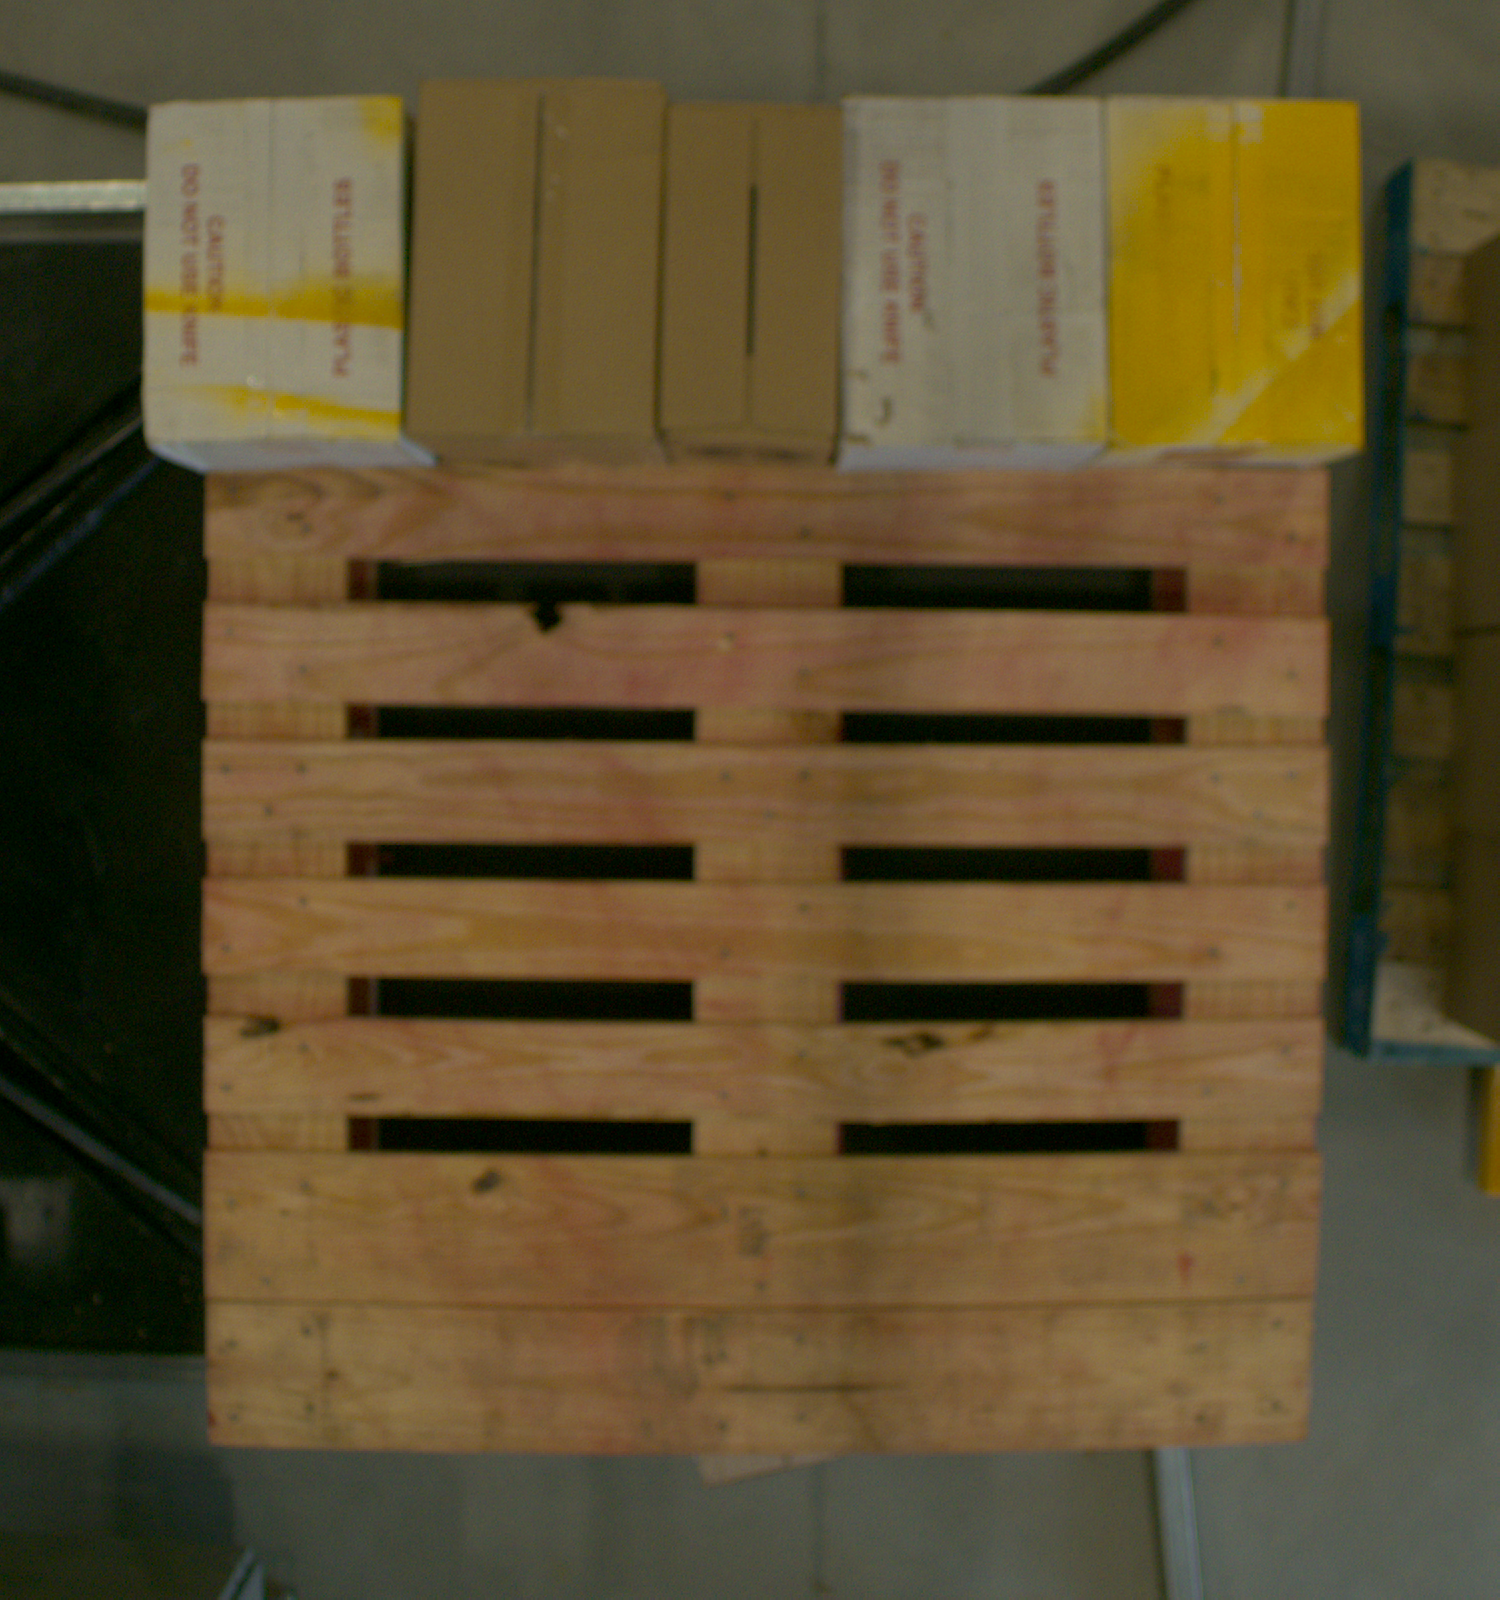box top: (140, 100, 399, 448), (846, 97, 1102, 447), (1111, 100, 1365, 448), (413, 80, 658, 438), (667, 106, 837, 441)
